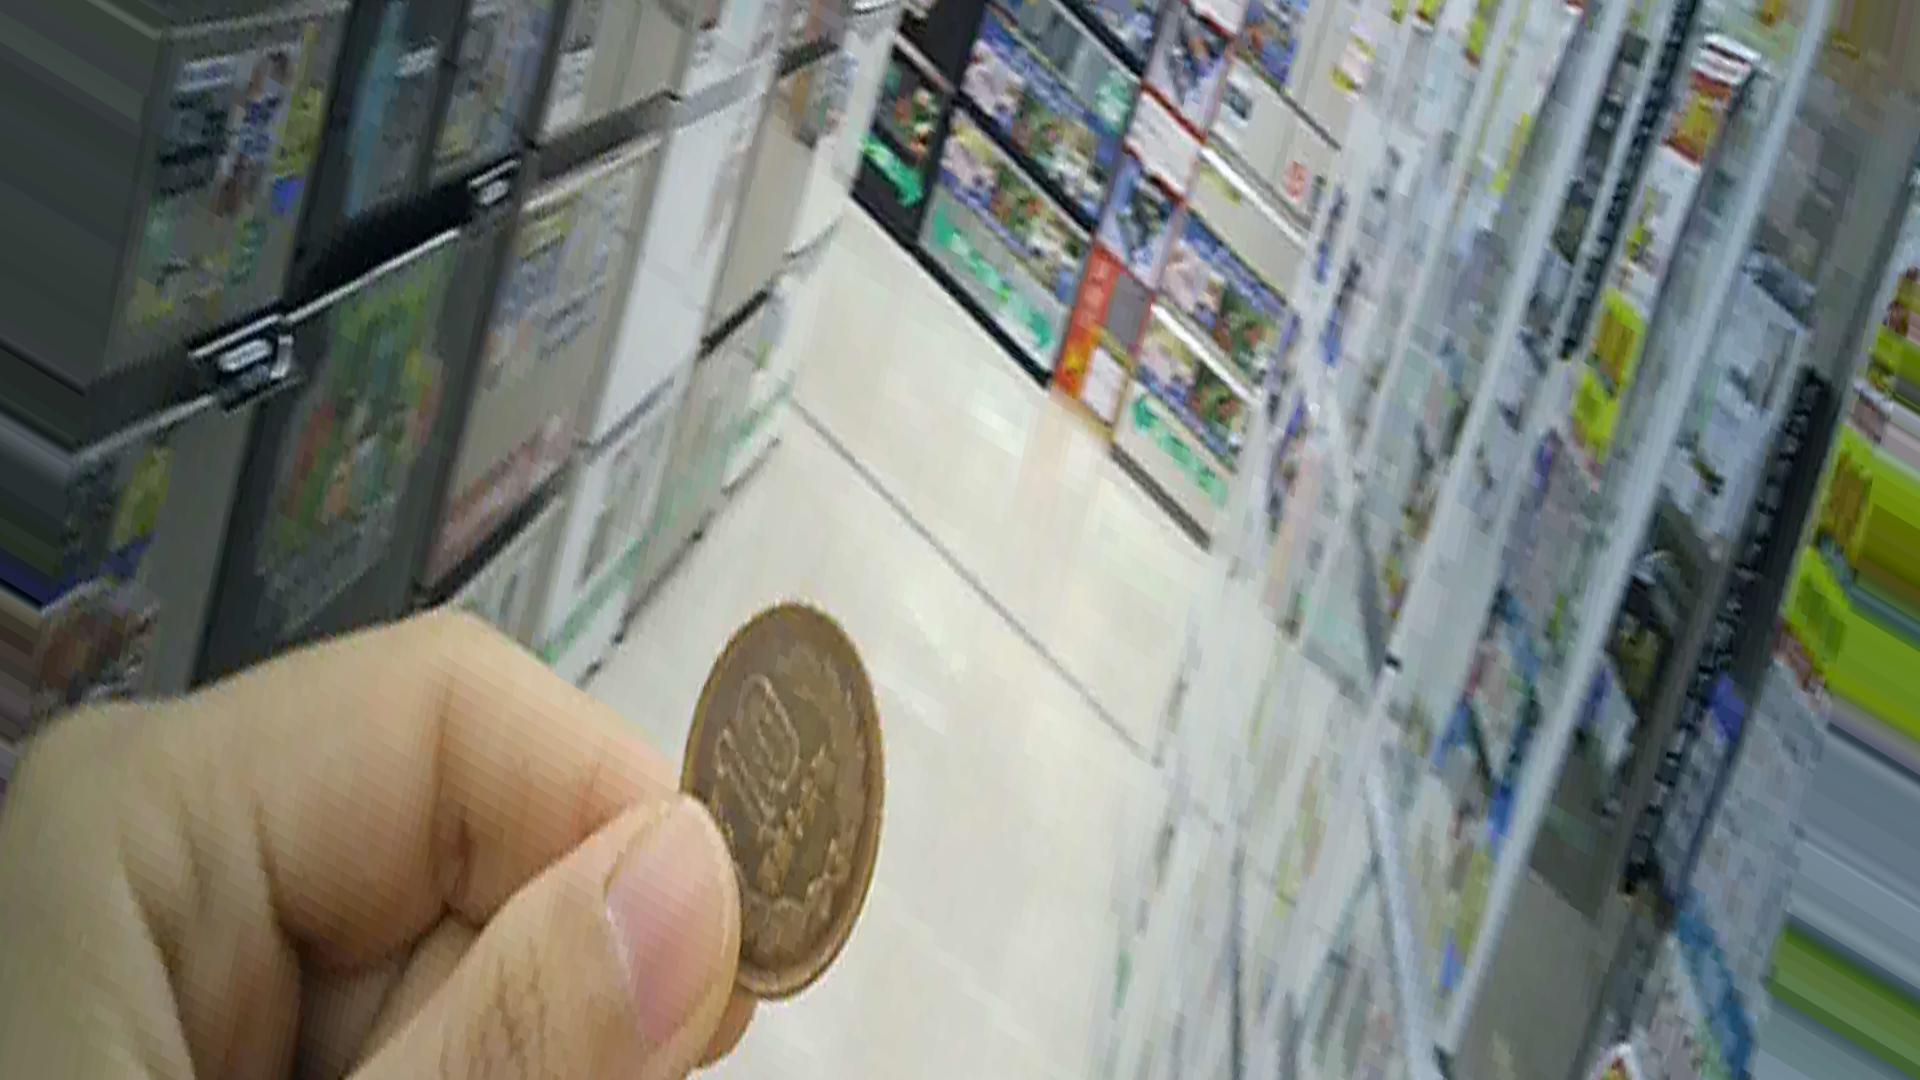10 Yen: (641, 588, 877, 1018)
